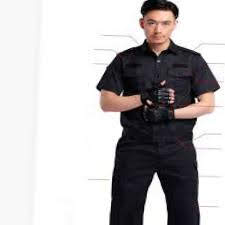uniform: (98, 40, 214, 217)
